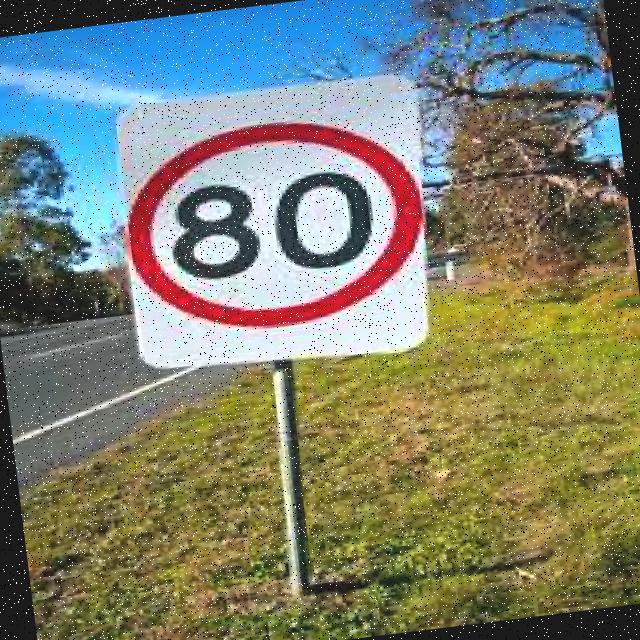Ograniczenie predkosci do 80: (121, 105, 440, 340)
